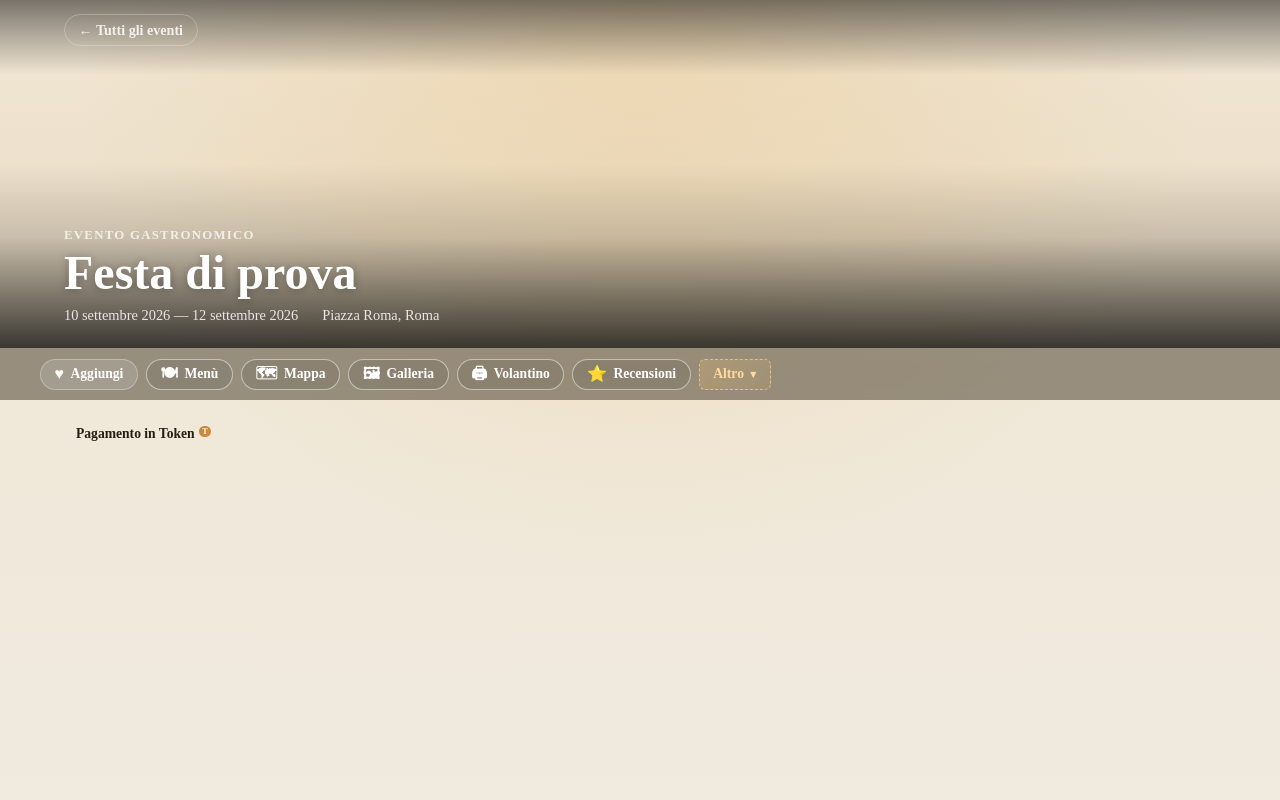
Test case: pagina evento — link al sito ufficiale › mostra il link in nuova scheda quando il sito è presente
This screenshot has width=1280, height=800.
Expected: the heading "Festa di prova" is shown, [64,246,356,299]
Click the button "Altro ▾" at {"x": 735, "y": 374}, box [699,359,771,390]
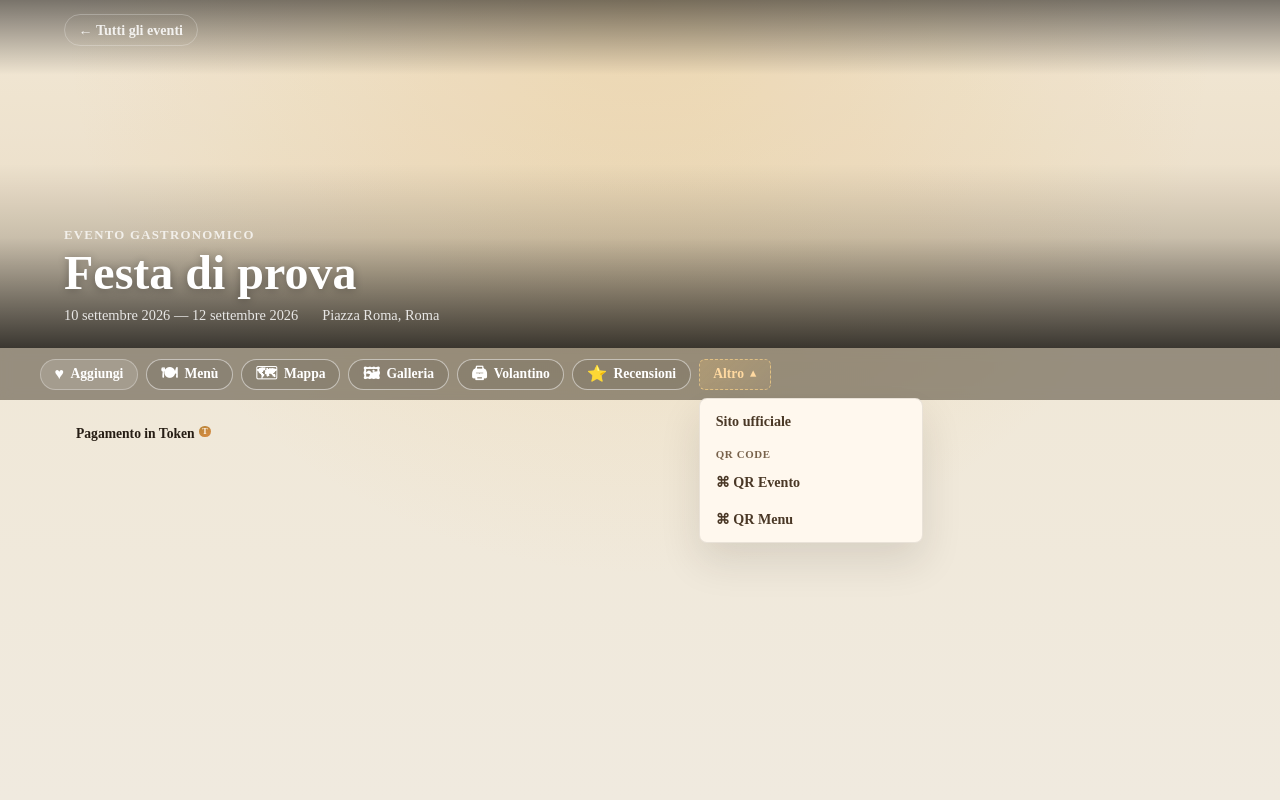
Expected: the menu item "Sito ufficiale" is shown, [716,413,791,429]
